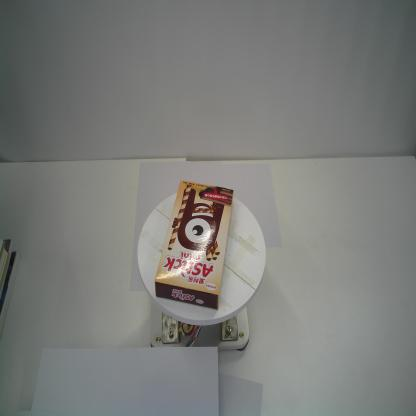Dessert: (154, 177, 235, 312)
